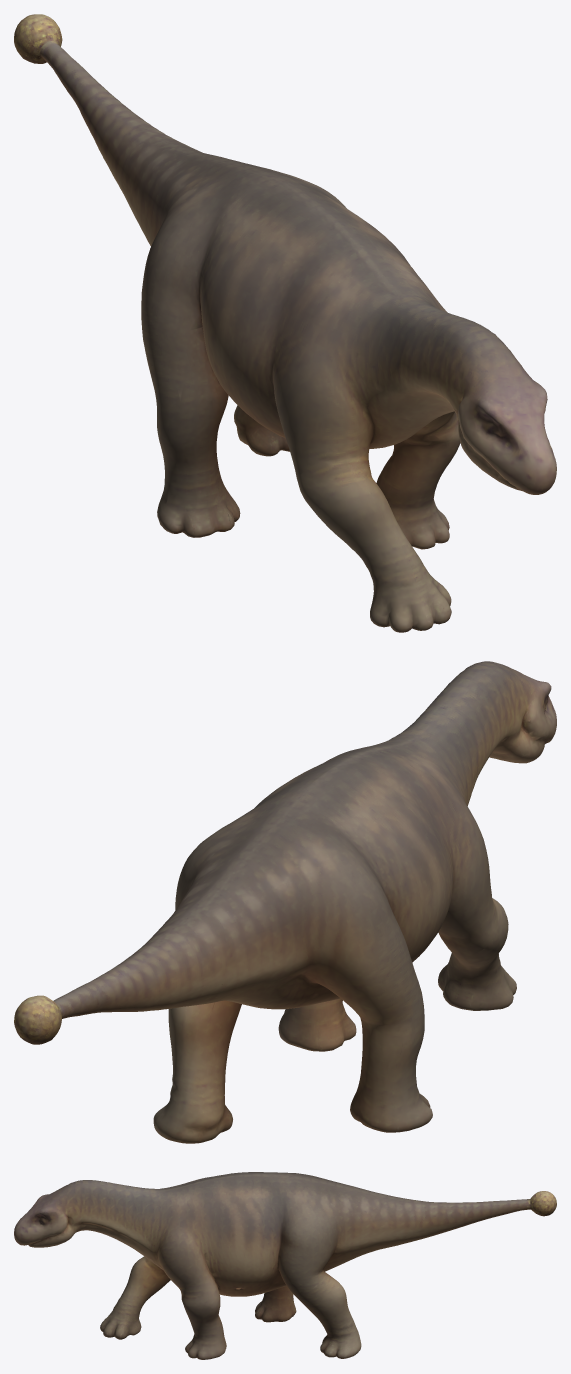
The picture shows the model from 3 angles, top to bottom: view 1: azimuth 30°, elevation 25°; view 2: azimuth 150°, elevation 25°; view 3: azimuth 270°, elevation 25°; orthographic projection. The views are drawn at different scales.
Parts seen in each view (by area): view 1: world; view 2: world; view 3: world.
Part boxes in pixels (<box>): world: <box>14,14,556,632</box>; world: <box>14,661,556,1143</box>; world: <box>14,1172,556,1359</box>.
Bounding box in the file's own units: 2.34 × 3.19 × 9.5.
Materials: 1 (1 with a texture image).
